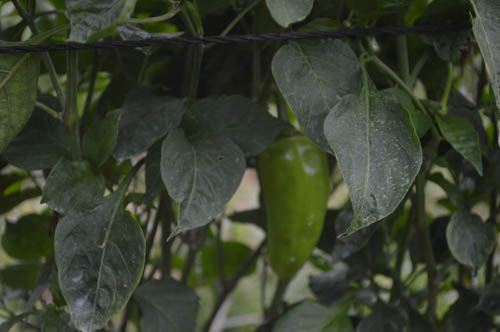ChiliPepper: (261, 137, 327, 282)
